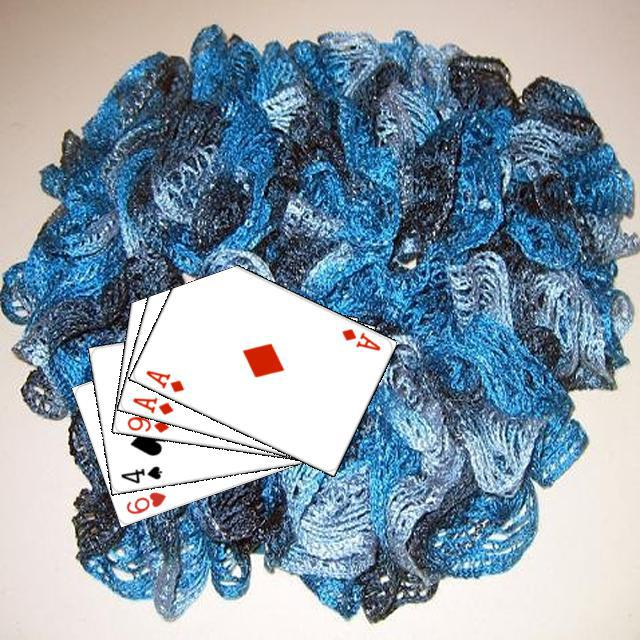4s: (116, 461, 164, 485)
6h: (121, 487, 168, 516)
9d: (122, 411, 171, 434)
Ad: (337, 323, 382, 353), (140, 365, 186, 394), (127, 392, 175, 417)
